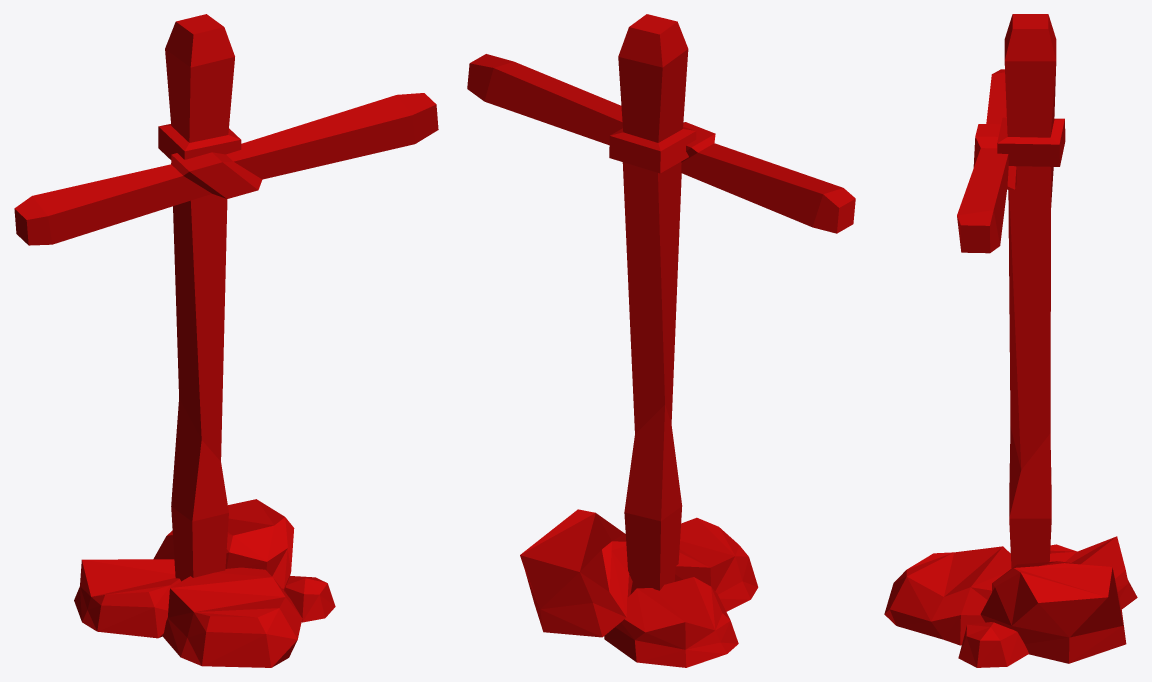
File: SM_Prop_Grave_03.gltf
The picture shows the model from 3 angles, left to right: view 1: azimuth 30°, elevation 25°; view 2: azimuth 150°, elevation 25°; view 3: azimuth 270°, elevation 25°; orthographic projection.
Parts seen in each view (by area): view 1: SM_Prop_Grave_03; view 2: SM_Prop_Grave_03; view 3: SM_Prop_Grave_03.
Boxes of the visible parts, <box> form: SM_Prop_Grave_03: <box>14,14,438,667</box>; SM_Prop_Grave_03: <box>467,14,855,667</box>; SM_Prop_Grave_03: <box>884,14,1137,667</box>.
Bounding box in the file's own units: 0.7489 × 1.07 × 0.4145.
